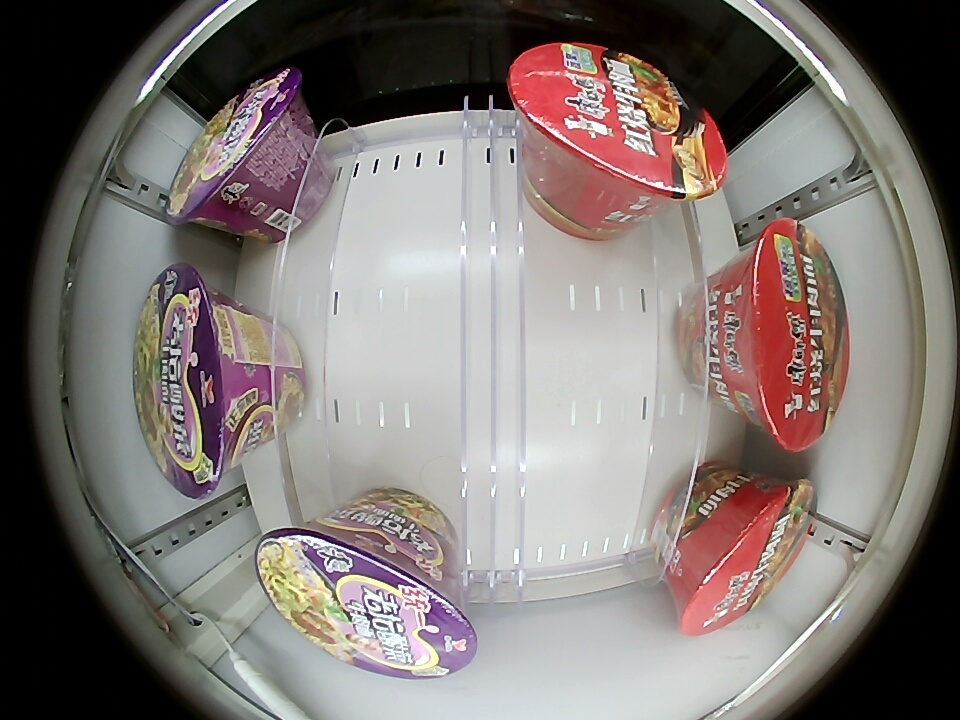hongshaoniurou: (508, 43, 726, 211), (708, 220, 848, 449), (674, 479, 815, 634)
laotansuancai: (256, 512, 477, 679), (134, 266, 272, 498), (168, 67, 306, 230)
